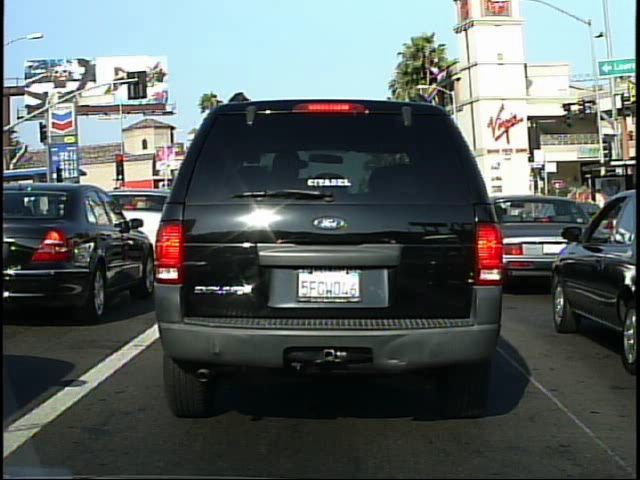person: (589, 182, 611, 241)
